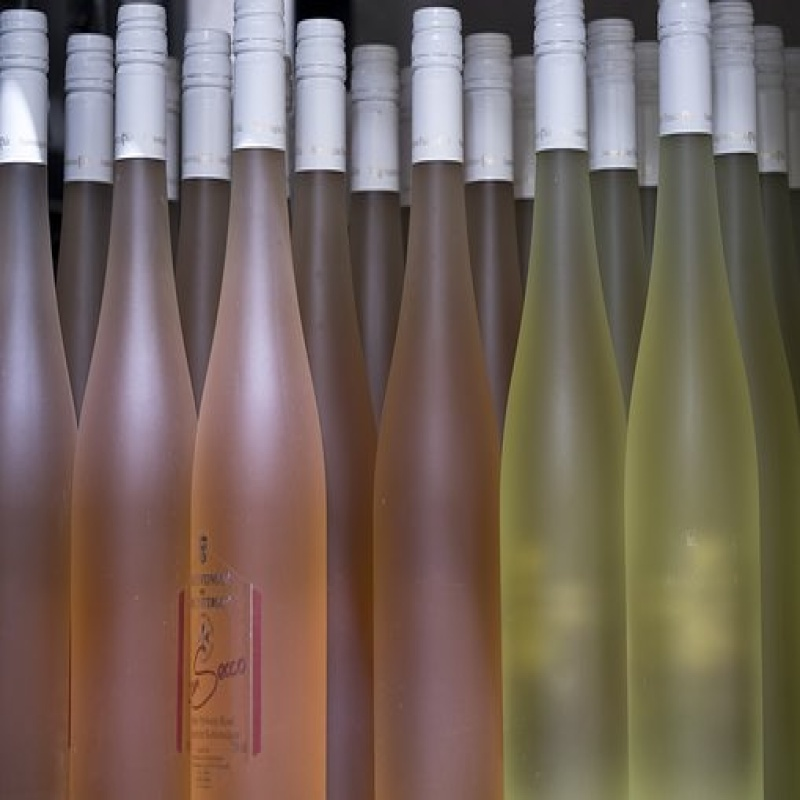wine: (191, 22, 326, 794), (627, 16, 758, 799), (372, 26, 503, 799), (508, 22, 628, 799), (75, 22, 186, 799)
